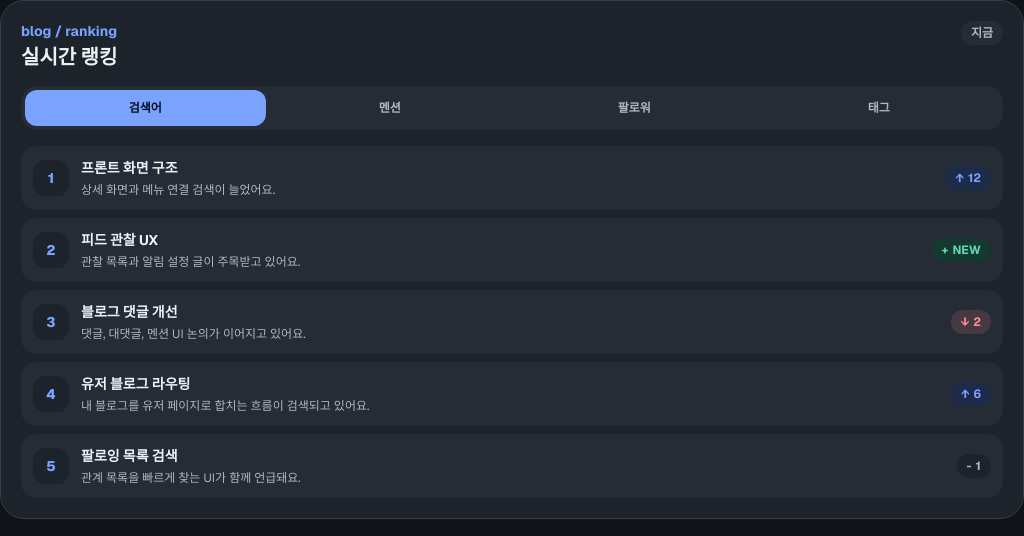
Test: BlogPopularInsightSection › 태그 탭을 누르면 해당 랭킹 1위(#frontend)를 보여준다
# 해당 탭을 클릭한다
Click the tab "태그".
click(879, 108)  # box [758,90,999,126]
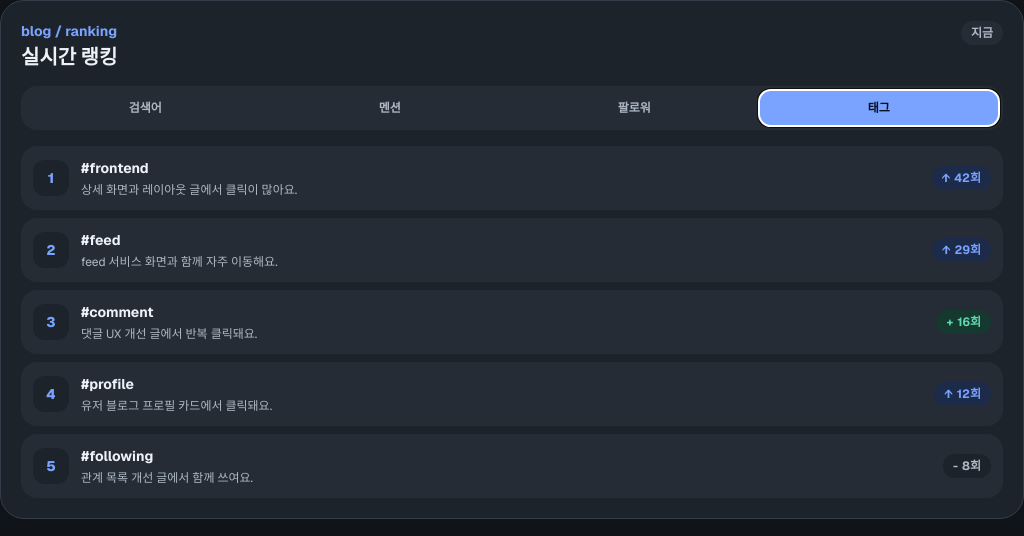
Check: the text "#frontend" is shown, box [81,159,149,177]
